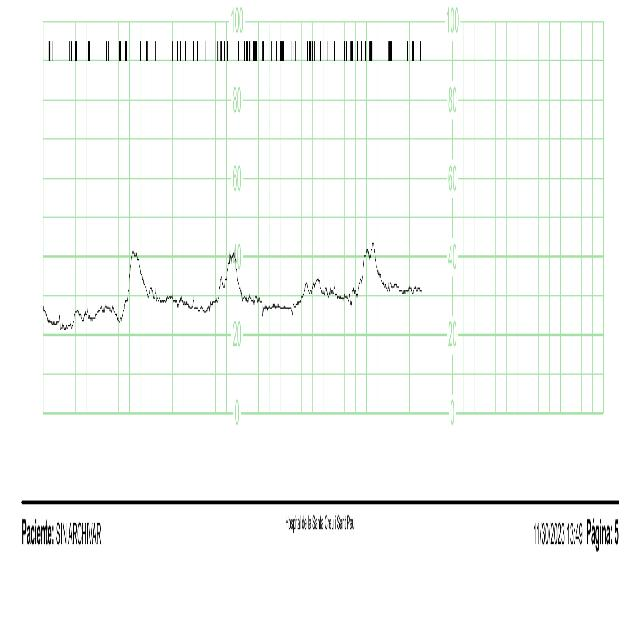contraction: (123, 228, 148, 328), (215, 232, 244, 316), (356, 222, 383, 307)
